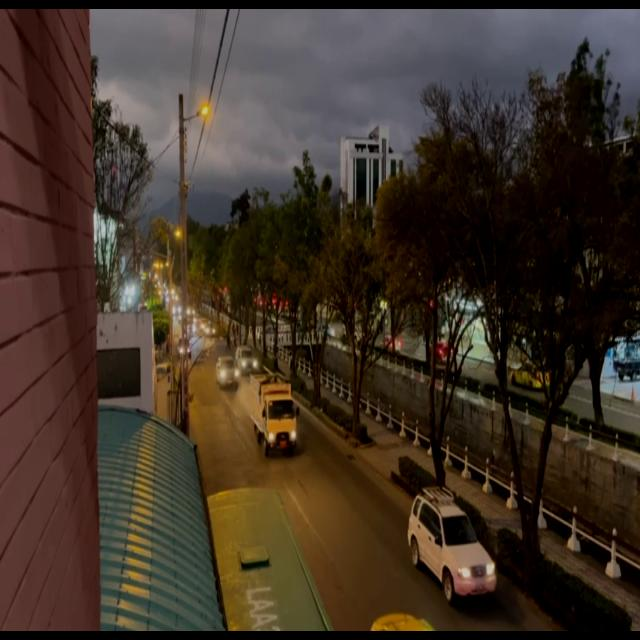SUV: (411, 497, 494, 600), (216, 359, 237, 391)
TRUCK: (252, 375, 298, 454)
